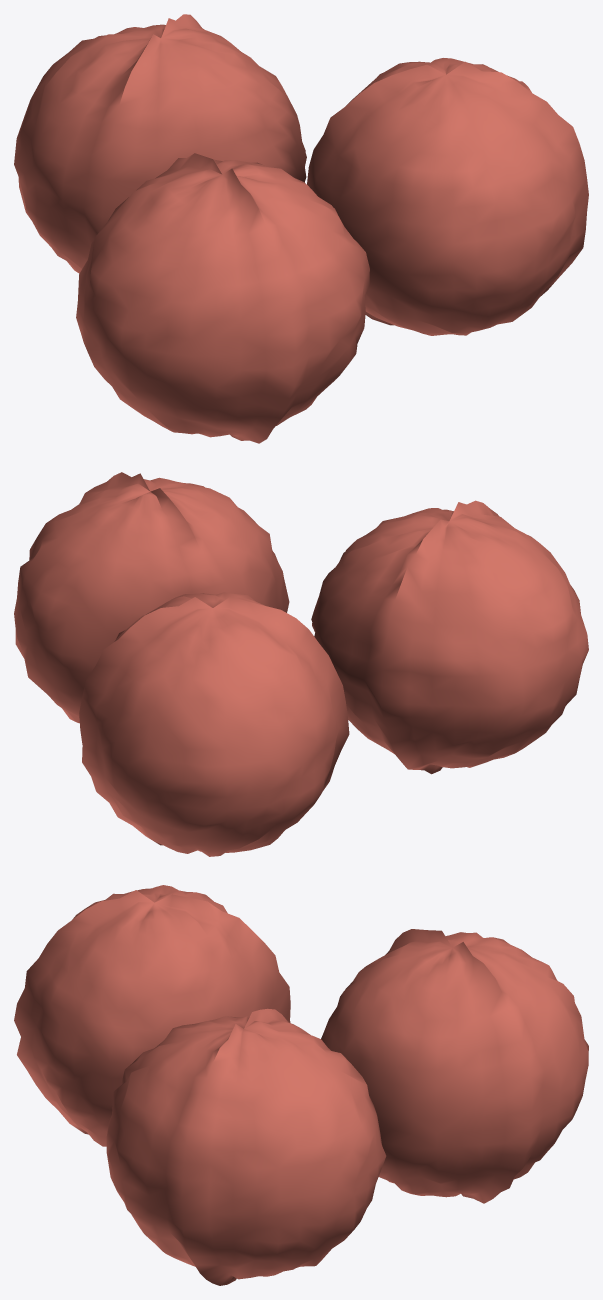
Rendered from food_walnut.glb.
3 views of the same model, one above another, from view 1: azimuth 30°, elevation 25°; view 2: azimuth 150°, elevation 25°; view 3: azimuth 270°, elevation 25° (orthographic). The views are drawn at different scales.
Parts seen in each view (by area): view 1: PART; view 2: PART; view 3: PART.
Part boxes in pixels (left/top/right/bottom): PART: left=14, top=14, right=588, bottom=443; PART: left=14, top=472, right=588, bottom=856; PART: left=14, top=885, right=588, bottom=1285.
Size of the model in its own units: 0.1285 by 0.065 by 0.1297.
